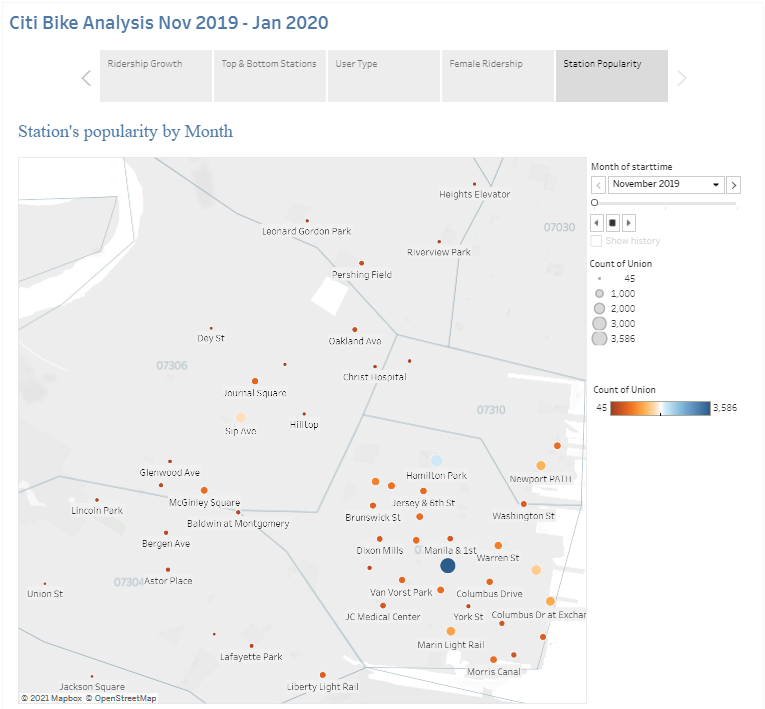

What the dashboard file says about the page in this screenshot:
{"tool":"tableau","page":{"name":"Station Popularity Map by Month","canvas":[1000,1000],"units":"permille","ordinal":2},"visuals":[{"type":"worksheet","box":[0,0,1000,1000]},{"type":"worksheet","param":"vert","box":[5.5,9.8,988.9,980.4]},{"type":"worksheet","box":[5.5,9.8,988.9,66]},{"type":"worksheet","box":[5.5,75.8,988.9,914.4]},{"type":"worksheet","title":"Advanced Map - Start","mark":"Automatic","rows":["start station latitude"],"cols":["start station longitude"],"box":[11.8,75.8,758.5,898.5]},{"type":"worksheet","title":"Advanced Map - Start","mark":"Automatic","rows":["start station latitude"],"cols":["start station longitude"],"box":[773.8,80.7,204,154]},{"type":"worksheet","title":"Advanced Map - Start","mark":"Automatic","rows":["start station latitude"],"cols":["start station longitude"],"param":"[federated.0e4tk9l00upwaq14i1hmy0mif4b7].[__tableau_internal_object_id__].[cnt:_","box":[774.5,239.6,201.9,198]},{"type":"worksheet","title":"Advanced Map - Start","mark":"Automatic","rows":["start station latitude"],"cols":["start station longitude"],"param":"[federated.0e4tk9l00upwaq14i1hmy0mif4b7].[__tableau_internal_object_id__].[cnt:_","box":[779.3,447.4,196.4,107.6]}]}

Visuals, with their boxes on the dashboard's canvas, which has no fixed pixel size, in thousandths of its width and height (x1, y1, x2, y2). These are canvas units, not pixel positions in the 765x709 screenshot, which may show the page scaled, cropped or inside an application window:
worksheet: 0:0:1000:1000
worksheet: 6:10:994:990
worksheet: 6:10:994:76
worksheet: 6:76:994:990
"Advanced Map - Start" worksheet: 12:76:770:974
"Advanced Map - Start" worksheet: 774:81:978:235
"Advanced Map - Start" worksheet: 774:240:976:438
"Advanced Map - Start" worksheet: 779:447:976:555
